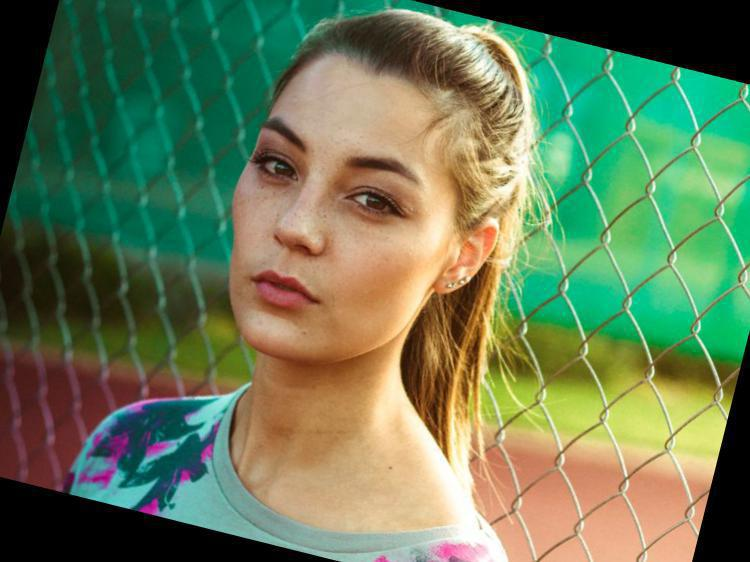Sober: (230, 92, 442, 332)
